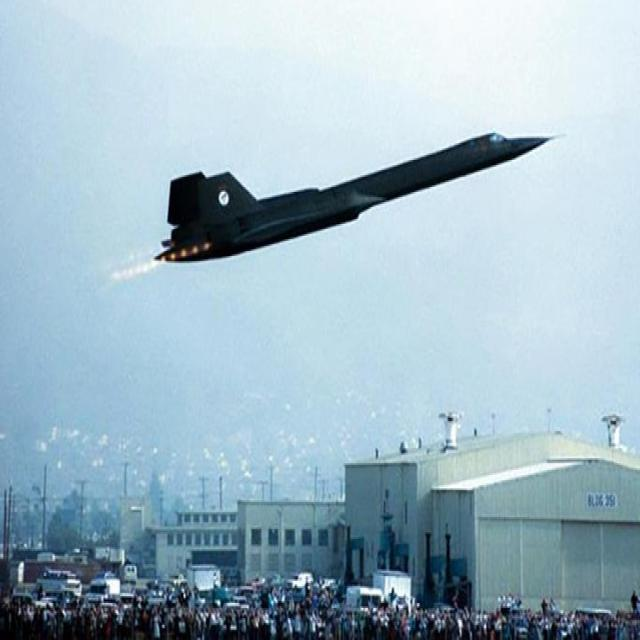MIL_Plane: (152, 130, 570, 264)
